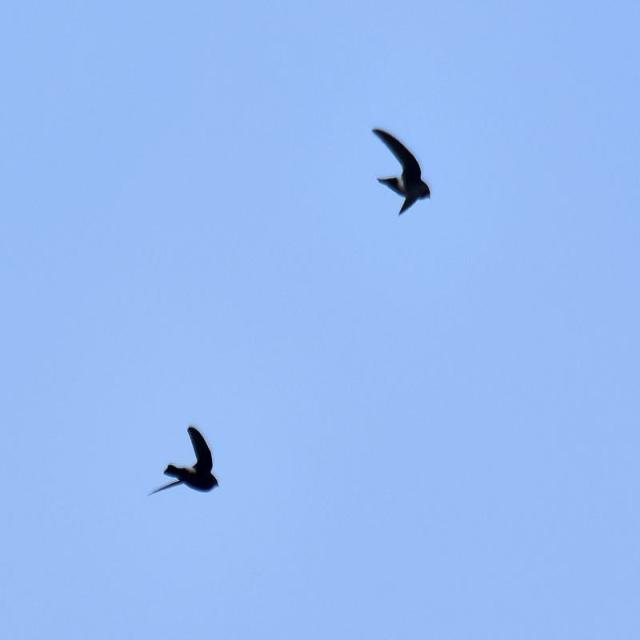bird: (371, 129, 431, 217), (158, 422, 220, 492)
